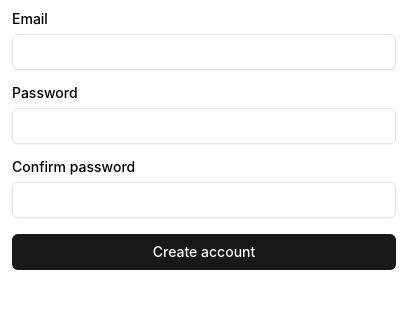
SignUpForm (A4 — server errors) › renders the localized generic message on a 500 override
Type "fresh@example.com" into the field labelled "Email" at (204, 52), box top-left (12, 34), bottom-right (396, 70)
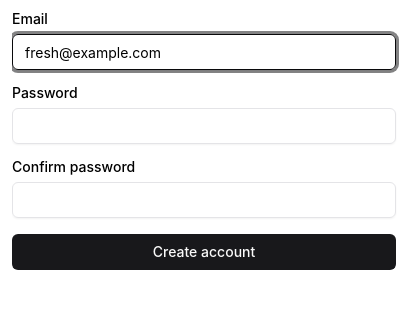
Type "a-long-enough-password" into the password field labelled "Password" at (204, 126), box top-left (12, 108), bottom-right (396, 144)
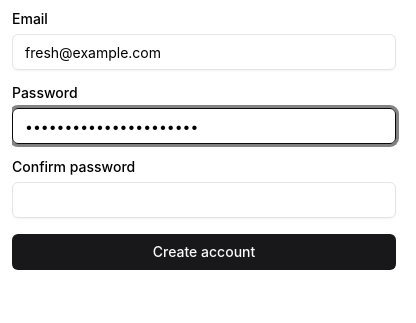
Type "a-long-enough-password" into the password field labelled "Confirm password" at (204, 200), box top-left (12, 182), bottom-right (396, 218)
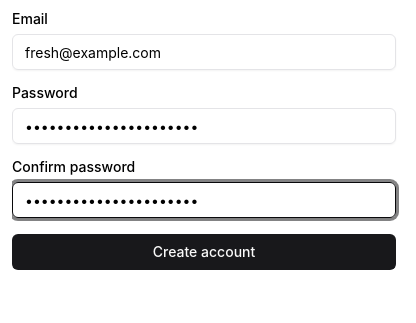
Click the button "Create account" at (204, 252), box top-left (12, 234), bottom-right (396, 270)
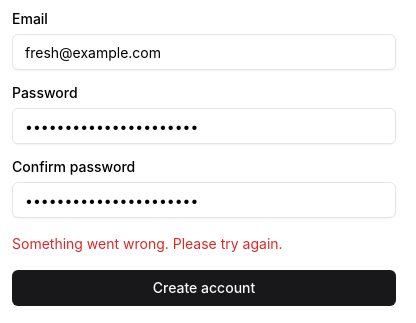
Check: the message reads "Something went wrong. Please try again.", box top-left (12, 235), bottom-right (283, 252)
